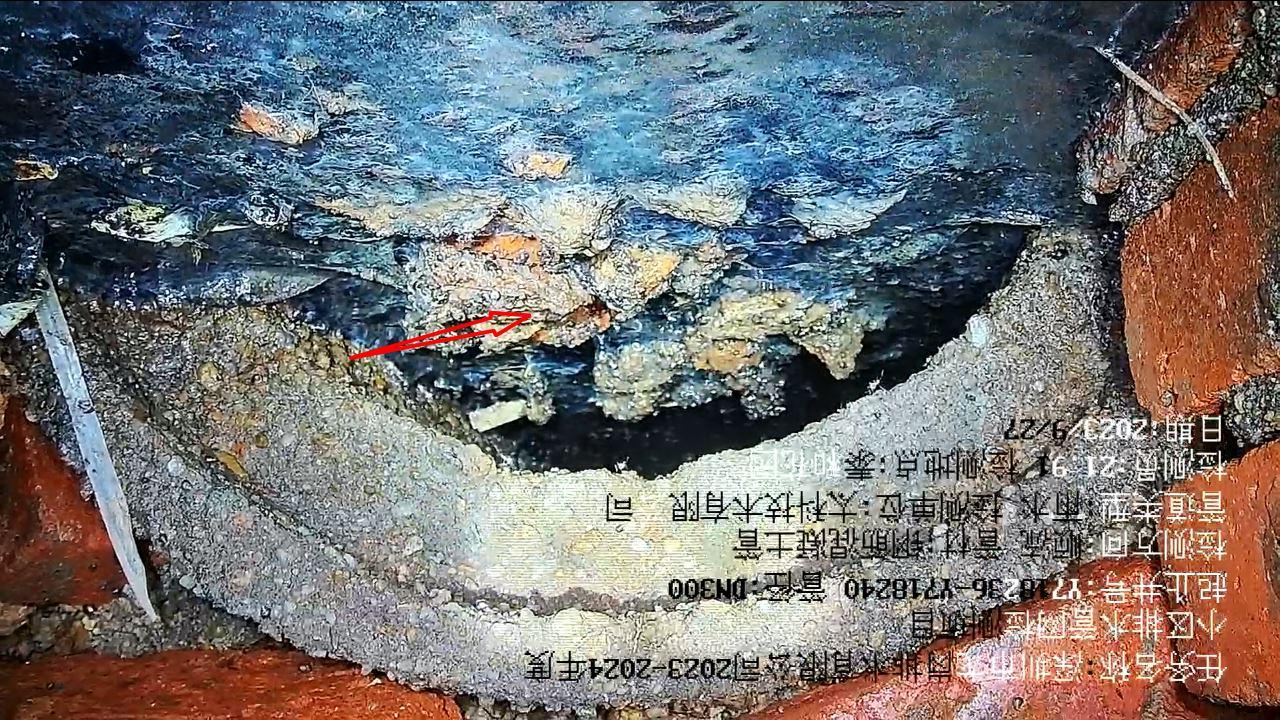CJ: (1, 4, 1166, 470)
